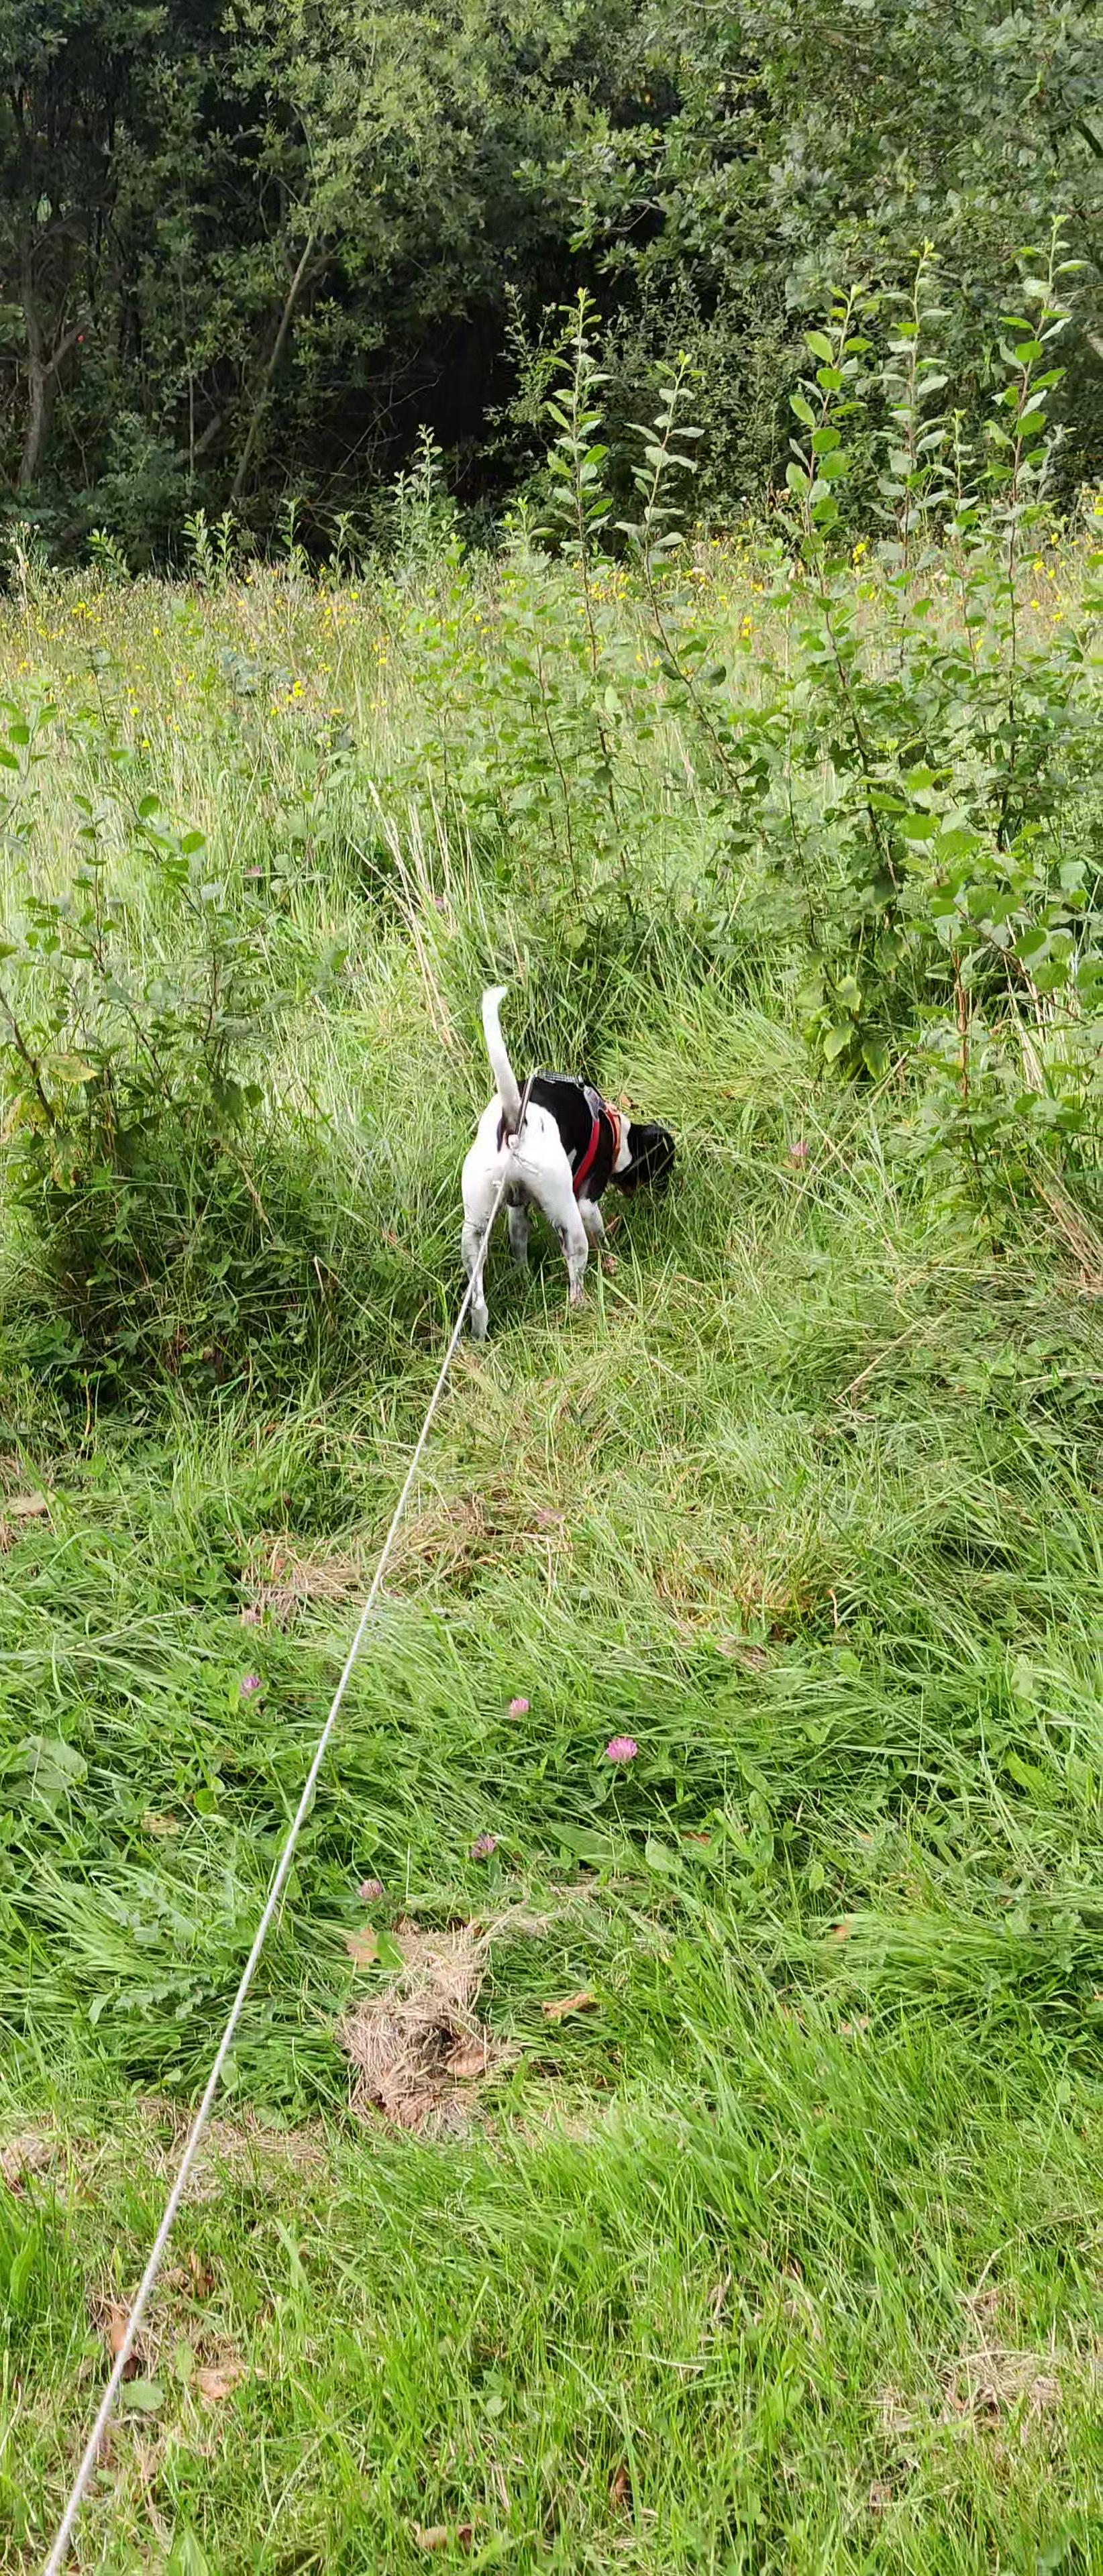Dog: (452, 976, 689, 1349)
